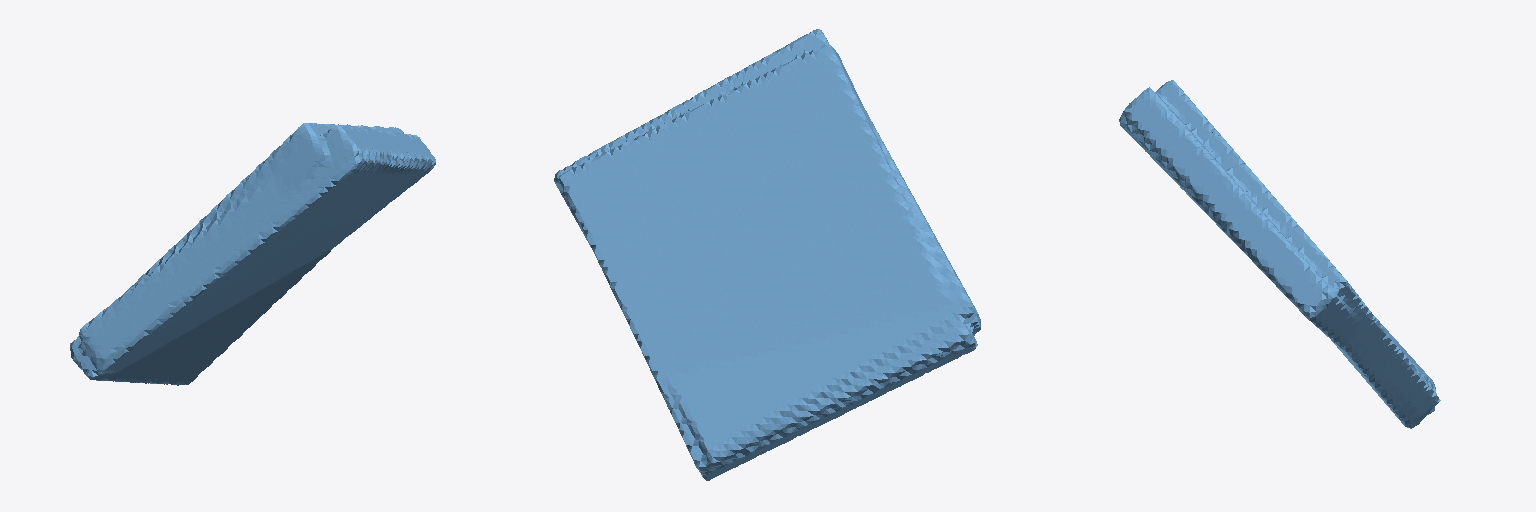
3 renders of one model, left to right at view 1: azimuth 30°, elevation 25°; view 2: azimuth 150°, elevation 25°; view 3: azimuth 270°, elevation 25°, orthographic.
Parts seen in each view (by area): view 1: Layer_2; view 2: Layer_2; view 3: Layer_2.
Part boxes in pixels (x1,y1,x2,y2): Layer_2: (70,123,435,385); Layer_2: (554,29,980,480); Layer_2: (1119,80,1440,428).
Size of the model in its own units: 56.8 by 48.96 by 40.59.
Materials: 1 (1 with a texture image).